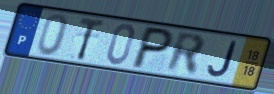0: (35, 12, 70, 58), (105, 23, 137, 67)
J: (206, 40, 239, 79)
P: (129, 25, 177, 70)
R: (165, 30, 207, 78)
T: (75, 16, 107, 62)
